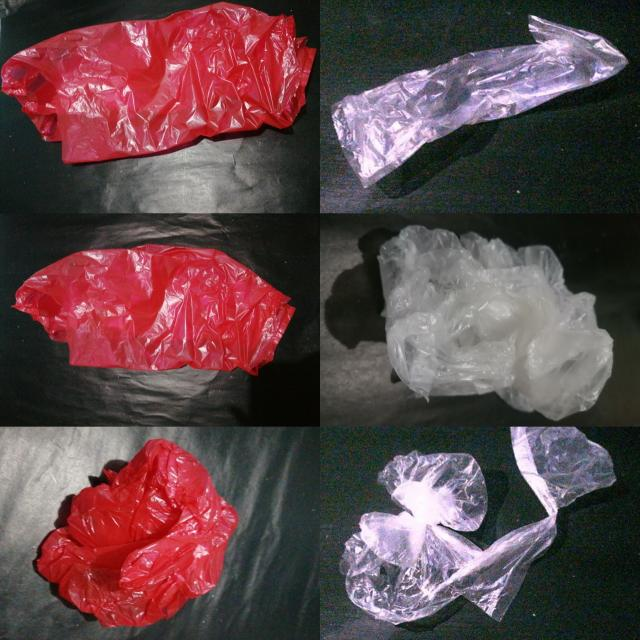Single-layer Plastic: (340, 428, 615, 624), (1, 2, 315, 164), (333, 16, 627, 188), (378, 225, 613, 419), (38, 439, 238, 627), (15, 245, 294, 375)
